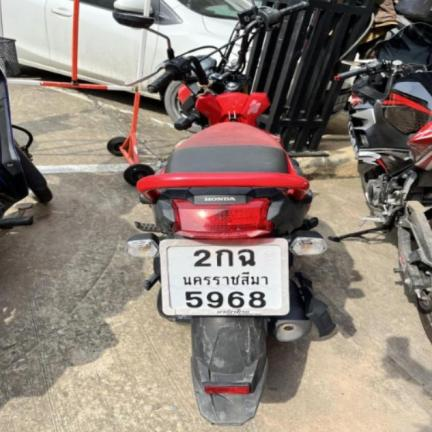2: (190, 248, 212, 267)
5: (183, 289, 203, 308)
6: (226, 290, 245, 308)
8: (248, 290, 268, 308)
9: (205, 289, 224, 309)
A01: (214, 248, 235, 267)
A09: (237, 248, 257, 266)
NMA: (181, 270, 270, 287)
